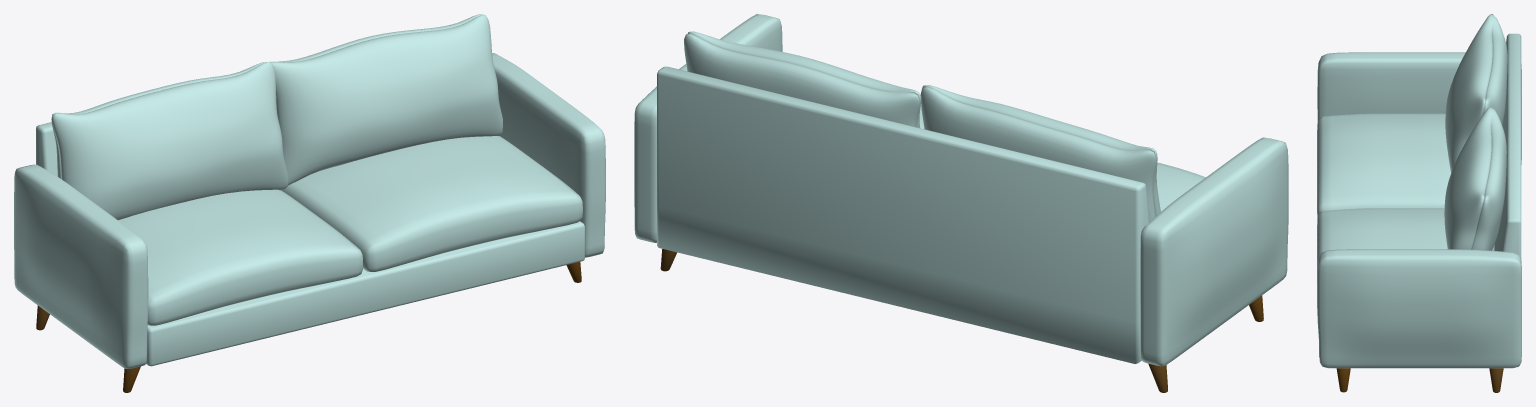
The model's file is model_Classic_Sofa.fbx.
3 views of the same model, side by side, from view 1: azimuth 30°, elevation 25°; view 2: azimuth 150°, elevation 25°; view 3: azimuth 270°, elevation 25° (orthographic). The views are drawn at different scales.
Parts seen in each view (by area): view 1: Cylinder.006; view 2: Cylinder.006; view 3: Cylinder.006.
Part boxes in pixels (x1,y1,x2,y2): Cylinder.006: (14,14,605,392); Cylinder.006: (634,14,1288,392); Cylinder.006: (1317,14,1521,392).
Size of the model in its own units: 204 by 85.97 by 82.96.
